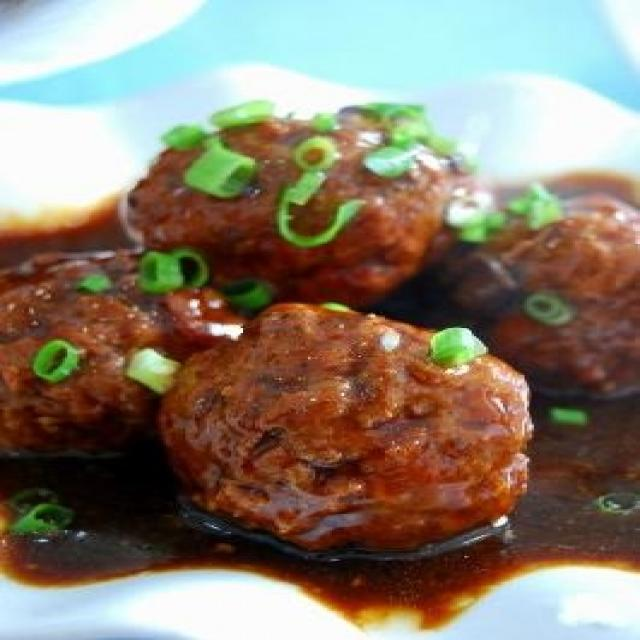Meatball: (144, 297, 544, 553), (123, 99, 450, 294)
